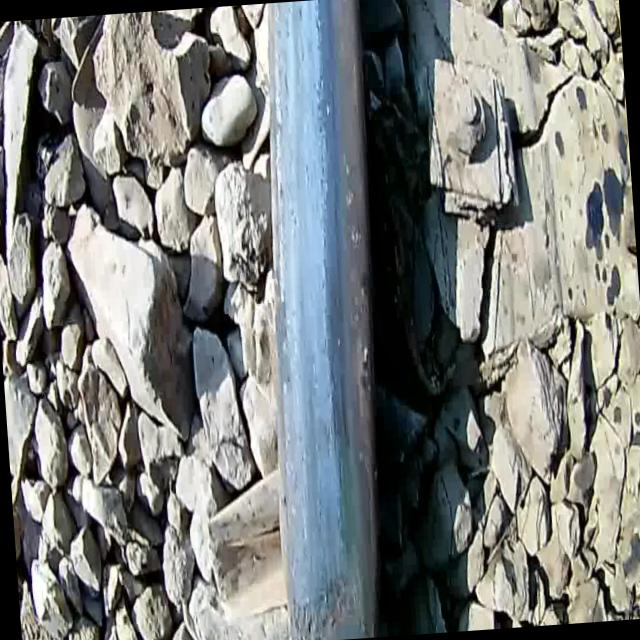Squats: (264, 555, 395, 640)
